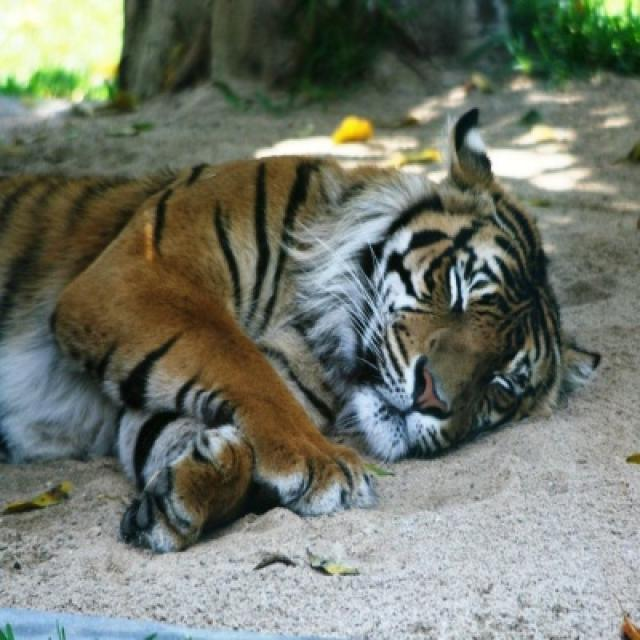Tiger: (0, 109, 598, 552)
